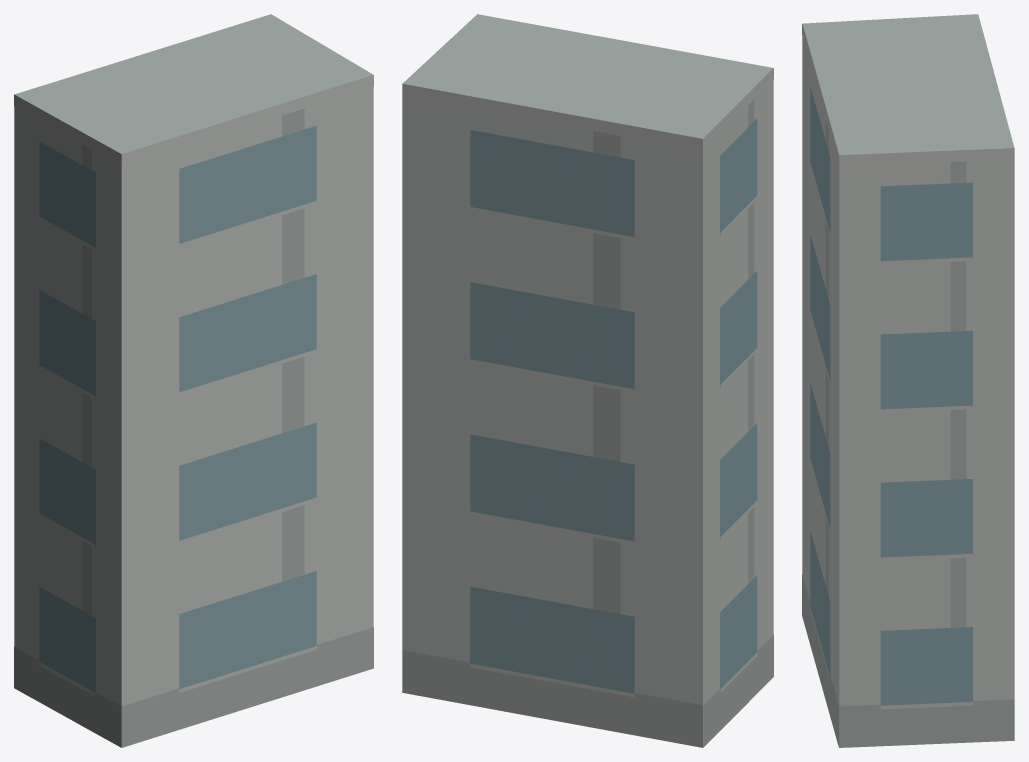
The model's file is survey-upis-32572230.glb.
3 views of the same model, side by side, from view 1: azimuth 30°, elevation 25°; view 2: azimuth 150°, elevation 25°; view 3: azimuth 270°, elevation 25° (orthographic). The views are drawn at different scales.
Visible parts, largest first — view 1: survey-upis-32572230.tmp; view 2: survey-upis-32572230.tmp; view 3: survey-upis-32572230.tmp.
Boxes of the visible parts, x1,y1,x2,y2 form: survey-upis-32572230.tmp: (14, 14, 373, 747); survey-upis-32572230.tmp: (402, 14, 773, 747); survey-upis-32572230.tmp: (802, 14, 1014, 747).
Size of the model in its own units: 6.24 by 12.2 by 3.97.
